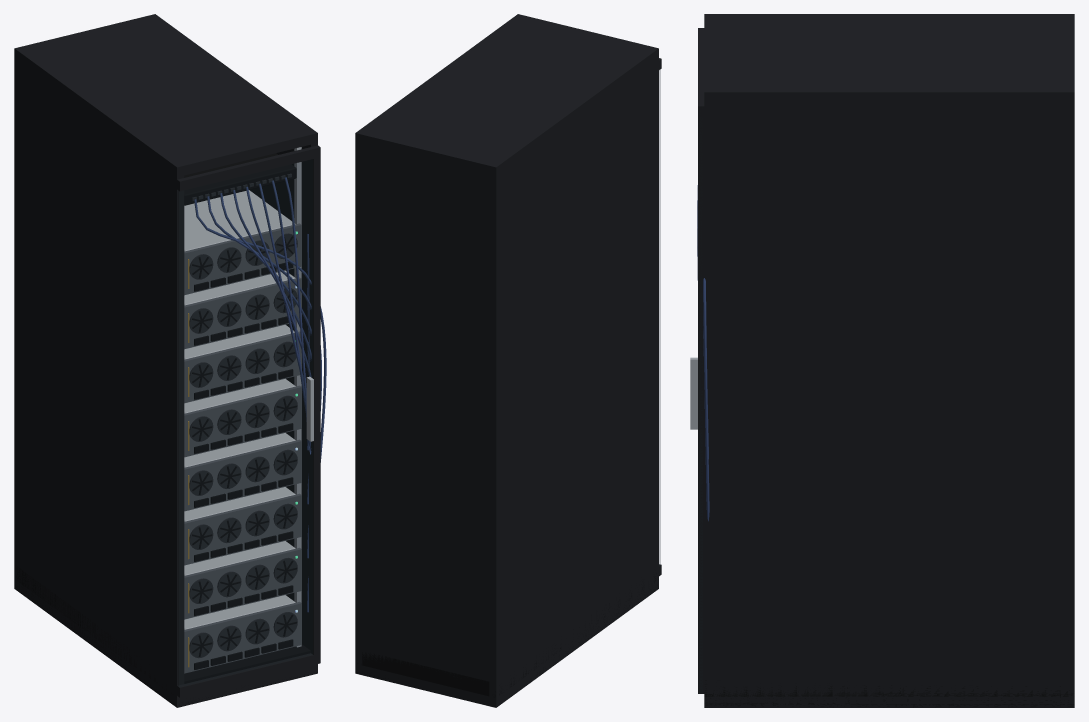
Rendered from gpuRack.glb.
3 renders of one model, left to right at view 1: azimuth 30°, elevation 25°; view 2: azimuth 150°, elevation 25°; view 3: azimuth 270°, elevation 25°, orthographic. The views are drawn at different scales.
Parts seen in each view (by area): view 1: frame, doorGlass, gpuRack, door, cables, plinth, switch, doorHandle, fan0_2, fan1_1, fan2_1, fan2_2 (+24 smaller); view 2: frame, plinth, doorGlass; view 3: frame, door, plinth, cables.
Boxes of the visible parts, x1,y1,x2,y2 form: frame: (14, 14, 317, 707); doorGlass: (178, 159, 312, 686); gpuRack: (184, 173, 301, 673); door: (177, 145, 320, 697); cables: (194, 177, 326, 612); plinth: (16, 566, 317, 707); switch: (184, 153, 296, 205); doorHandle: (306, 376, 313, 441); fan0_2: (245, 618, 269, 644); fan1_1: (217, 571, 241, 597); fan2_1: (217, 517, 241, 543); fan2_2: (245, 510, 269, 536); frame: (355, 14, 658, 707); plinth: (355, 573, 658, 700); doorGlass: (659, 60, 660, 565); frame: (704, 14, 1074, 707); door: (698, 28, 704, 693); plinth: (704, 680, 1074, 707); cables: (697, 185, 709, 521).
Bounding box in the file's own units: 0.6384 × 2.2 × 1.25.
